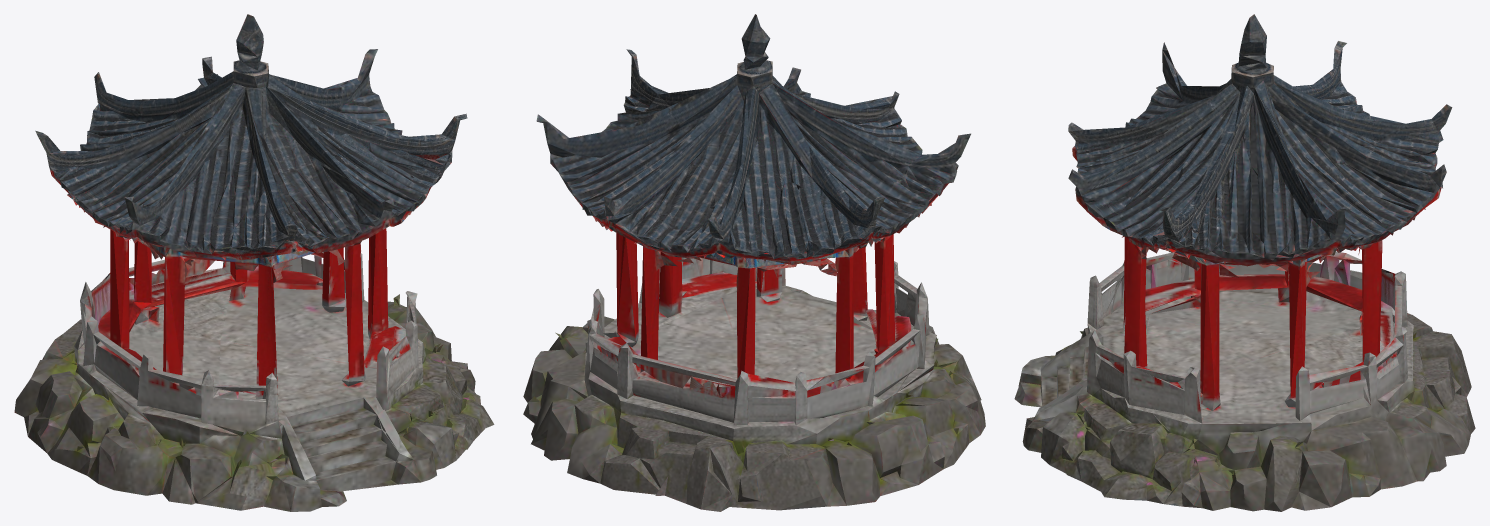
File: pavilion.glb
3 views of the same model, side by side, from view 1: azimuth 30°, elevation 25°; view 2: azimuth 150°, elevation 25°; view 3: azimuth 270°, elevation 25° (orthographic).
Visible parts, largest first — view 1: output_unwrapped; view 2: output_unwrapped; view 3: output_unwrapped.
Boxes of the visible parts, x1,y1,x2,y2 form: output_unwrapped: (14, 14, 494, 511); output_unwrapped: (523, 14, 985, 511); output_unwrapped: (1014, 14, 1475, 511).
Bounding box in the file's own units: 1.9 × 1.8 × 1.89.
Materials: 1 (1 with a texture image).
